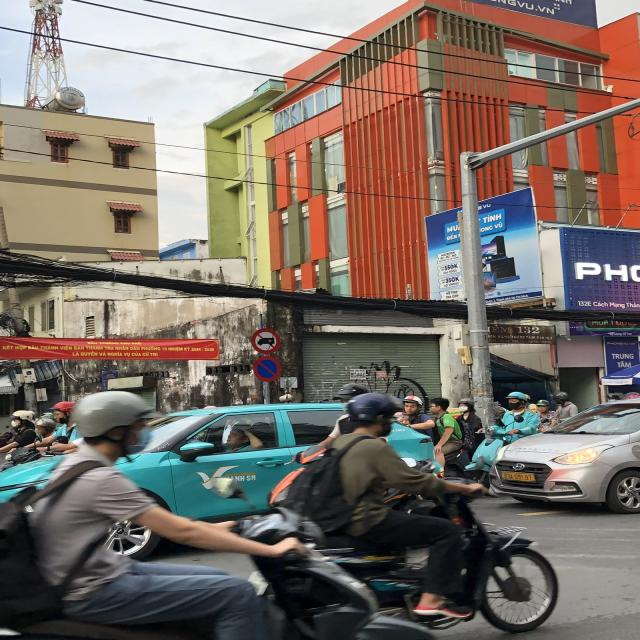Bien bao cam do xe: (252, 354, 282, 382)
Bien bao cam xe oto tai: (252, 327, 280, 355)
